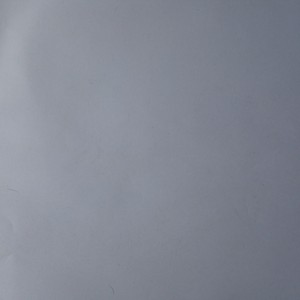back: (1, 1, 299, 299)
